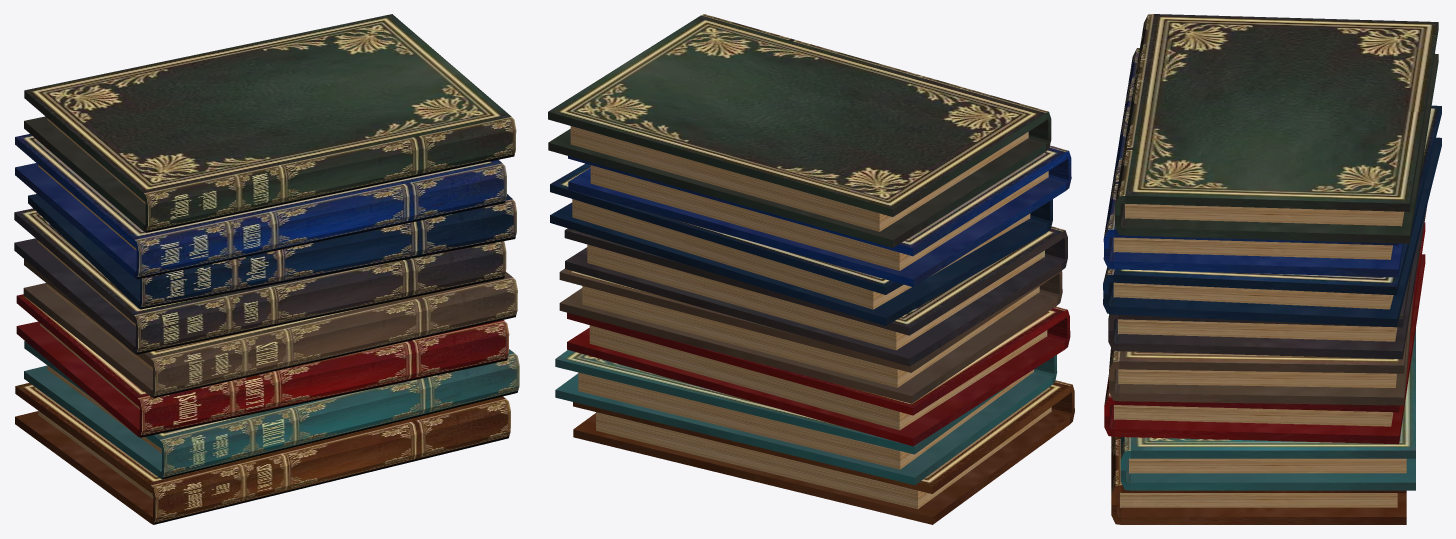
Rendered from pile-of-books.glb.
3 renders of one model, left to right at view 1: azimuth 30°, elevation 25°; view 2: azimuth 150°, elevation 25°; view 3: azimuth 270°, elevation 25°, orthographic. The views are drawn at different scales.
Visible parts, largest first — view 1: Box006_green_0, Box004_blue_0, Box002_ORANGE_0, Box005_black_0, Box008_pink_0, Box003_RED_0, Box009_Cyan_0, Box007_purple_0; view 2: Box006_green_0, Box005_black_0, Box003_RED_0, Box009_Cyan_0, Box002_ORANGE_0, Box004_blue_0, Box008_pink_0, Box007_purple_0; view 3: Box006_green_0, Box007_purple_0, Box009_Cyan_0, Box008_pink_0, Box003_RED_0, Box004_blue_0, Box005_black_0, Box002_ORANGE_0.
Boxes of the visible parts, box(x1,y1,x2,y2) form: Box006_green_0: box(24, 14, 516, 232); Box004_blue_0: box(15, 134, 506, 279); Box002_ORANGE_0: box(15, 383, 510, 524); Box005_black_0: box(14, 208, 506, 354); Box008_pink_0: box(23, 259, 517, 398); Box003_RED_0: box(16, 294, 509, 437); Box009_Cyan_0: box(24, 340, 519, 479); Box007_purple_0: box(28, 194, 516, 309); Box006_green_0: box(548, 14, 1051, 247); Box005_black_0: box(564, 226, 1067, 366); Box003_RED_0: box(567, 306, 1070, 446); Box009_Cyan_0: box(555, 350, 1057, 485); Box002_ORANGE_0: box(573, 380, 1074, 524); Box004_blue_0: box(568, 145, 1071, 286); Box008_pink_0: box(559, 268, 1062, 403); Box007_purple_0: box(550, 163, 1052, 325); Box006_green_0: box(1115, 14, 1438, 243); Box007_purple_0: box(1103, 105, 1441, 326); Box009_Cyan_0: box(1120, 329, 1415, 490); Box008_pink_0: box(1109, 288, 1414, 405); Box003_RED_0: box(1104, 222, 1425, 444); Box004_blue_0: box(1103, 48, 1403, 277); Box005_black_0: box(1108, 205, 1427, 359); Box002_ORANGE_0: box(1111, 436, 1406, 524).
Bounding box in the file's own units: 54.54 × 42.39 × 39.07.
8 materials, 8 textured.
